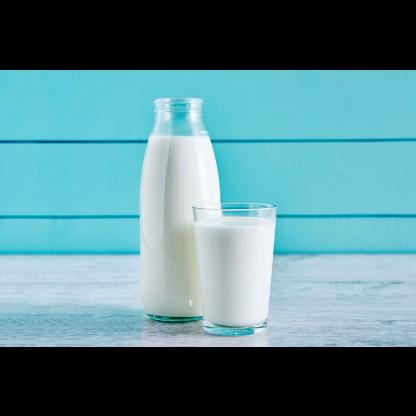milk: (138, 133, 222, 319), (192, 214, 276, 328)
